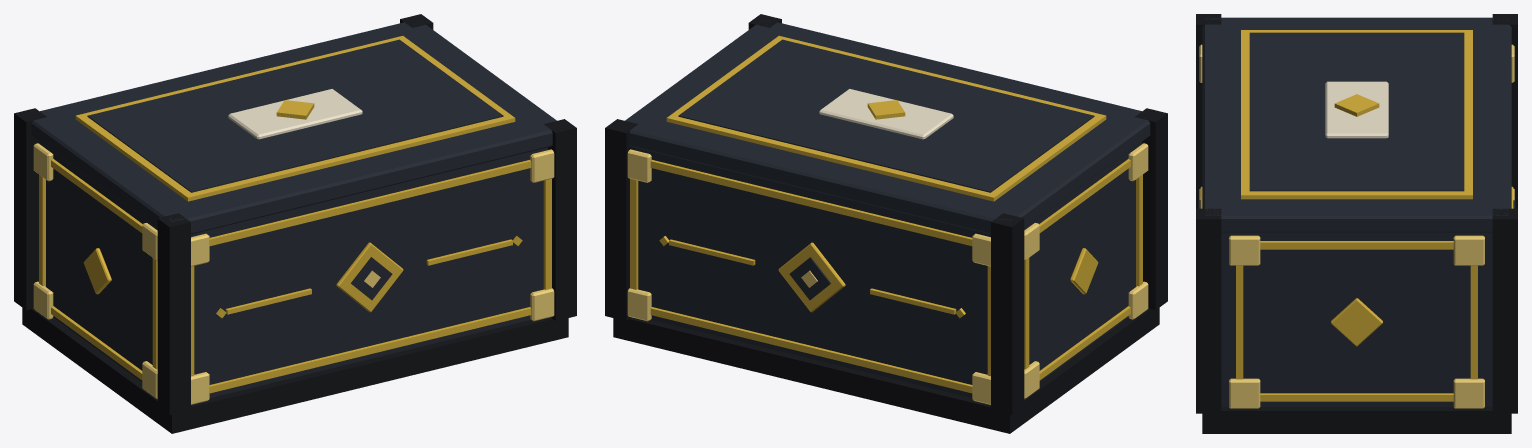
File: prestige_crate.glb
3 renders of one model, left to right at view 1: azimuth 30°, elevation 25°; view 2: azimuth 150°, elevation 25°; view 3: azimuth 270°, elevation 25°, orthographic. The views are drawn at different scales.
Visible parts, largest first — view 1: Panel.001, LidInner, LidBoard, Panel.003, Pallet, Post, LidFrame, Post.002, Post.001, LidPlate, FrameB.001, FrameT.001 (+17 smaller); view 2: Panel, LidInner, LidBoard, Panel.003, Pallet, Post.001, LidFrame, Post.003, Post, LidPlate, FrameB, FrameT (+17 smaller); view 3: Panel.002, LidInner, LidBoard, Pallet, LidFrame, Post.003, Post.002, LidPlate, FrameB.002, FrameT.002, Post, Post.001 (+10 smaller).
Part boxes in pixels (<box>): Panel.001: <box>191,147,547,397</box>; LidInner: <box>87,39,503,192</box>; LidBoard: <box>31,19,556,234</box>; Panel.003: <box>41,143,157,381</box>; Pallet: <box>22,307,568,433</box>; Post: <box>157,213,190,415</box>; LidFrame: <box>75,36,515,201</box>; Post.002: <box>544,119,576,320</box>; Post.001: <box>14,108,46,310</box>; LidPlate: <box>228,89,362,139</box>; FrameB.001: <box>209,307,531,393</box>; FrameT.001: <box>209,160,531,245</box>; Panel: <box>634,147,990,397</box>; LidInner: <box>678,39,1094,192</box>; LidBoard: <box>625,19,1150,234</box>; Panel.003: <box>1024,143,1140,381</box>; Pallet: <box>613,307,1159,433</box>; Post.001: <box>991,213,1024,415</box>; LidFrame: <box>666,36,1106,201</box>; Post.003: <box>605,119,637,320</box>; Post: <box>1135,108,1167,310</box>; LidPlate: <box>819,89,953,139</box>; FrameB: <box>650,307,972,393</box>; FrameT: <box>650,160,972,245</box>; Panel.002: <box>1225,232,1488,406</box>; LidInner: <box>1249,32,1464,191</box>; LidBoard: <box>1202,17,1511,232</box>; Pallet: <box>1202,407,1511,433</box>; LidFrame: <box>1241,30,1472,199</box>; Post.003: <box>1492,208,1517,413</box>; Post.002: <box>1196,208,1221,413</box>; LidPlate: <box>1325,81,1388,138</box>; FrameB.002: <box>1260,393,1453,401</box>; FrameT.002: <box>1260,241,1453,249</box>; Post: <box>1196,14,1221,208</box>; Post.001: <box>1492,14,1517,208</box>.
Size of the model in its own units: 0.77 by 0.403 by 0.51.
